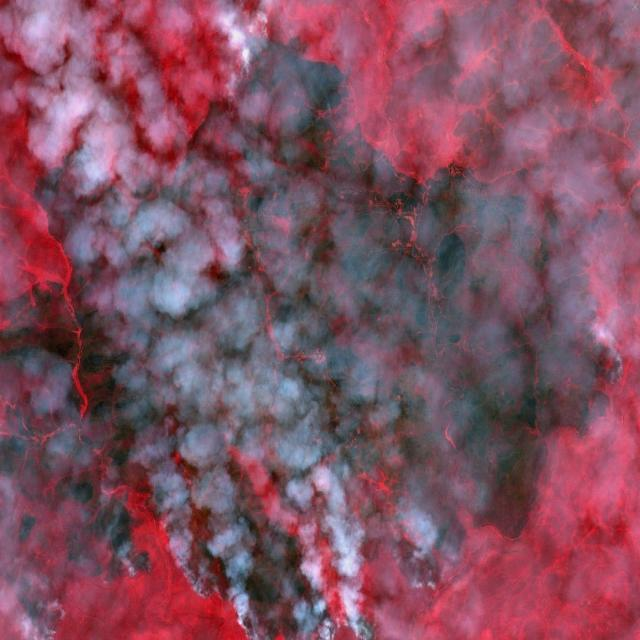fire: (48, 513, 448, 640), (210, 18, 290, 80), (594, 334, 630, 389)
